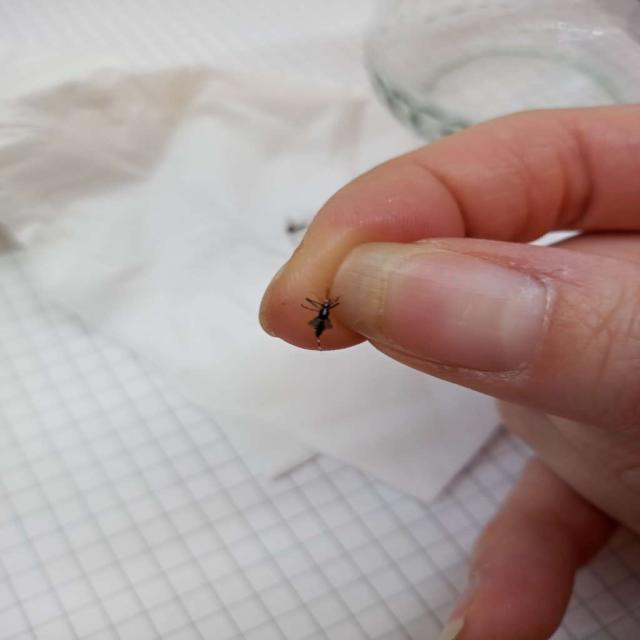albopictus: (283, 272, 356, 345)
